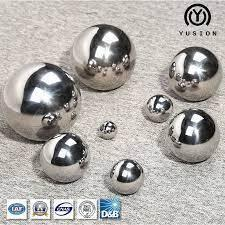steelball: (68, 22, 136, 91), (166, 44, 224, 102), (163, 108, 220, 164), (38, 132, 91, 183), (106, 156, 144, 194), (143, 92, 173, 122)
